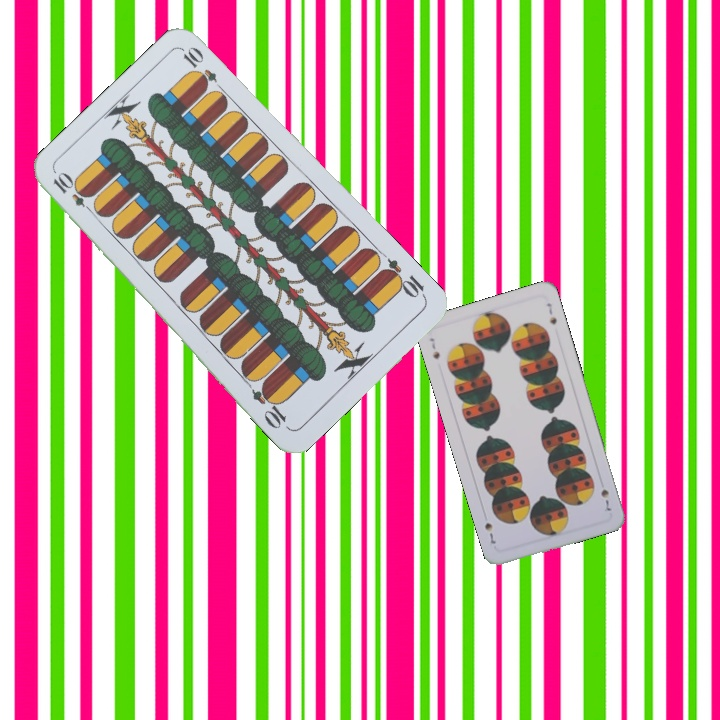E10: (377, 254, 429, 302), (49, 169, 99, 217)
S7: (597, 485, 614, 516), (425, 334, 442, 362)
